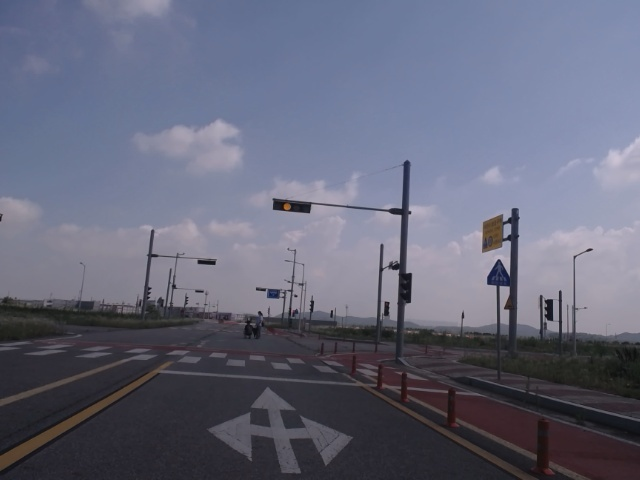orange_4: (273, 199, 310, 215)
